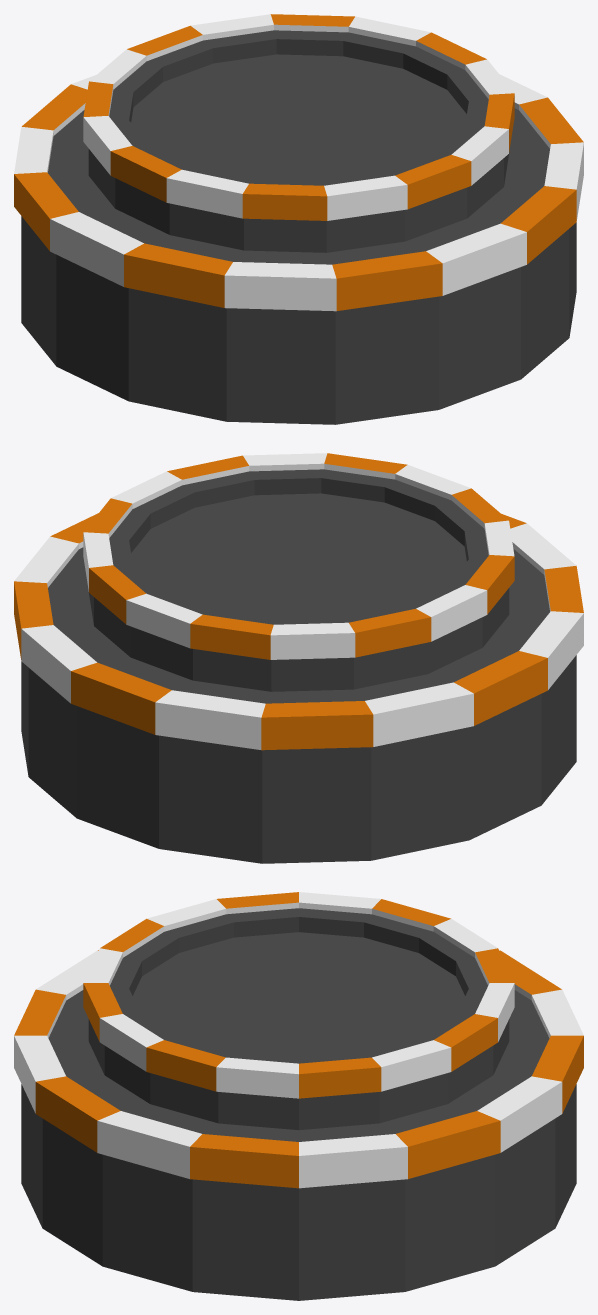
The model's file is Launching pad.fbx.
3 views of the same model, one above another, from view 1: azimuth 30°, elevation 25°; view 2: azimuth 150°, elevation 25°; view 3: azimuth 270°, elevation 25° (orthographic).
Visible parts, largest first — view 1: Окружность.110; view 2: Окружность.110; view 3: Окружность.110.
Part boxes in pixels (left/top/right/bottom): Окружность.110: left=14, top=14, right=583, bottom=424; Окружность.110: left=14, top=453, right=583, bottom=863; Окружность.110: left=14, top=892, right=583, bottom=1300.
Size of the model in its own units: 577 by 224 by 577.
